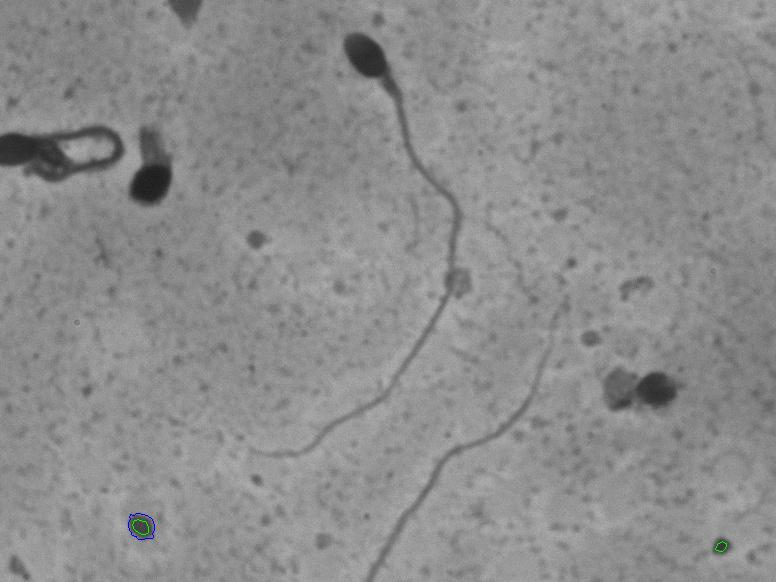Abnormal: (116, 109, 197, 242)
Normal: (240, 18, 472, 478)
